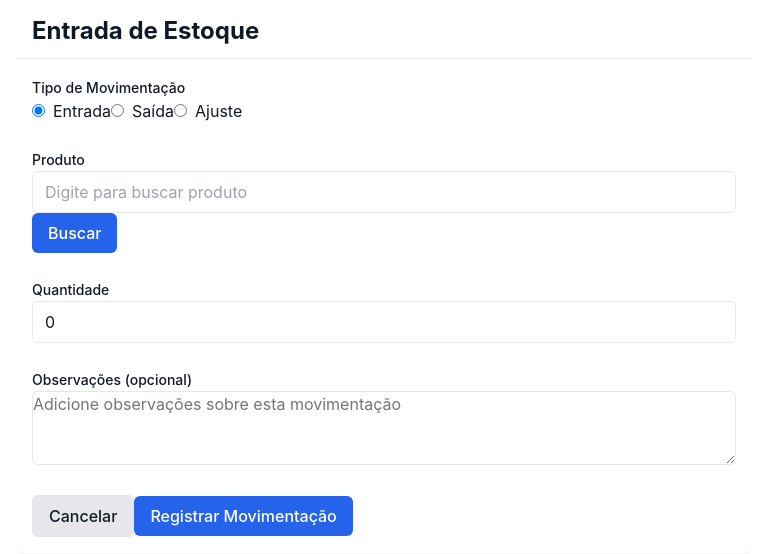
Scenario: InventoryMovementView › Page Title › should update title when movement type changes to ajuste
What coordinates should you click on to do the following:
click the radio button labelled "Ajuste"
I would click on:
 (180, 110)
Its box is [174, 104, 187, 117].
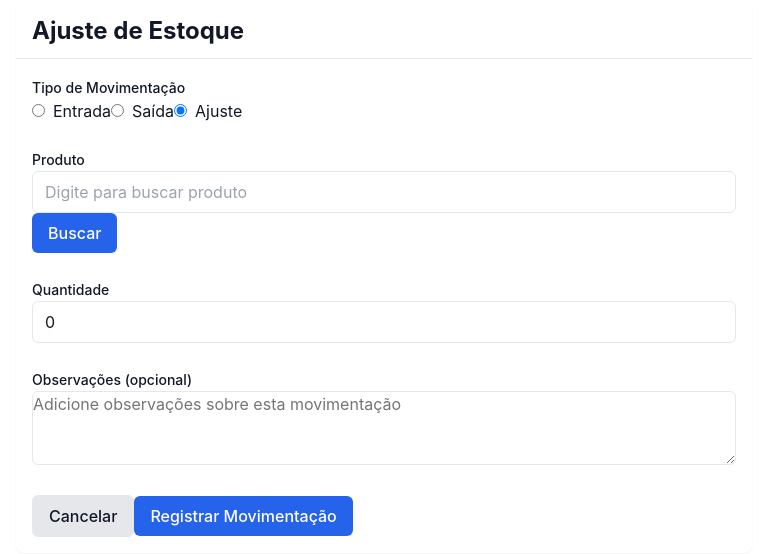
Expected: the text "Ajuste de Estoque" is shown, [32, 16, 244, 45]
